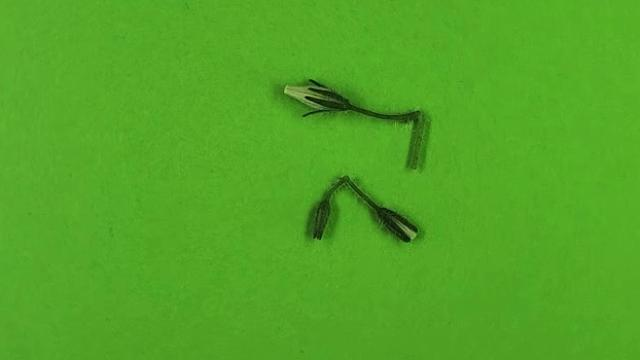Flower Bud: (283, 80, 349, 113), (378, 208, 419, 243), (312, 199, 331, 239)
